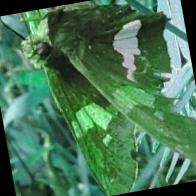butterfly: (21, 3, 196, 196)
